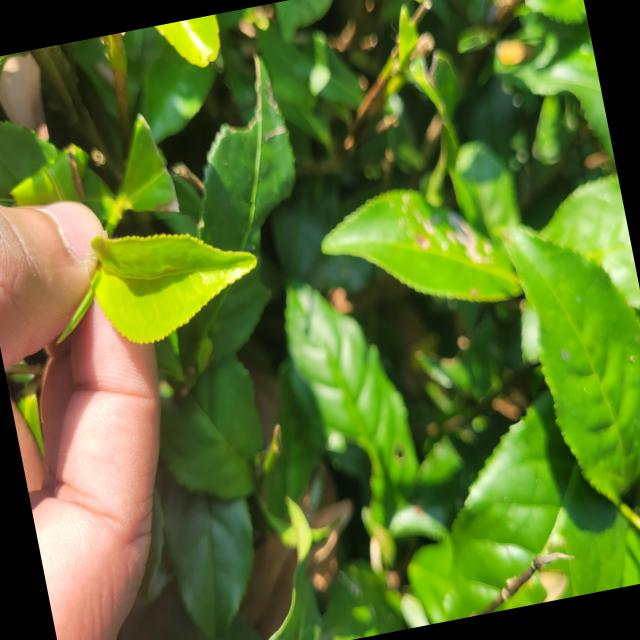Catagory A(1-2 days): (80, 202, 278, 366)
